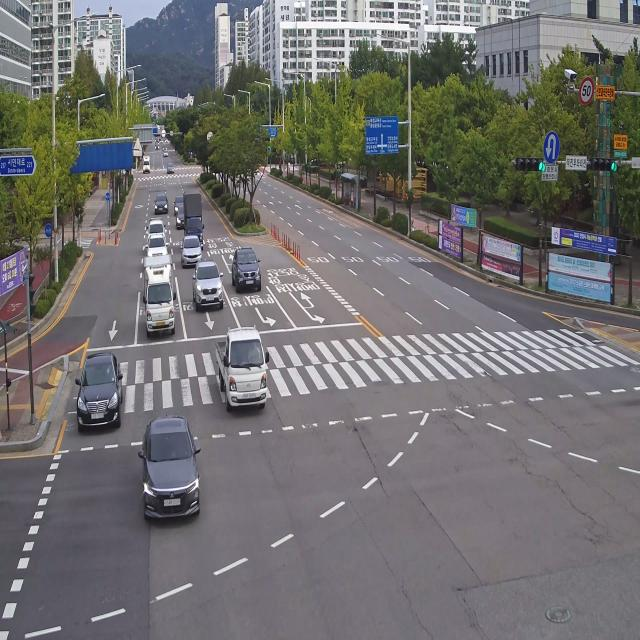Car: (139, 409, 208, 534), (73, 341, 126, 438), (208, 318, 267, 405), (191, 254, 226, 316), (229, 244, 265, 296), (178, 236, 205, 267), (145, 235, 169, 264), (145, 215, 169, 244), (150, 188, 169, 216), (176, 204, 189, 230), (172, 191, 187, 213), (166, 162, 176, 175), (164, 148, 168, 158)
Truck: (139, 250, 179, 342), (181, 187, 205, 251), (141, 152, 151, 180)
